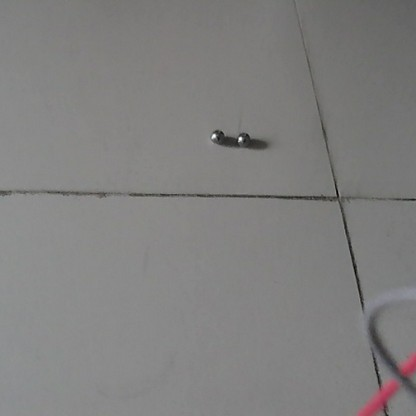ironball: (236, 128, 251, 148), (209, 128, 224, 145)
